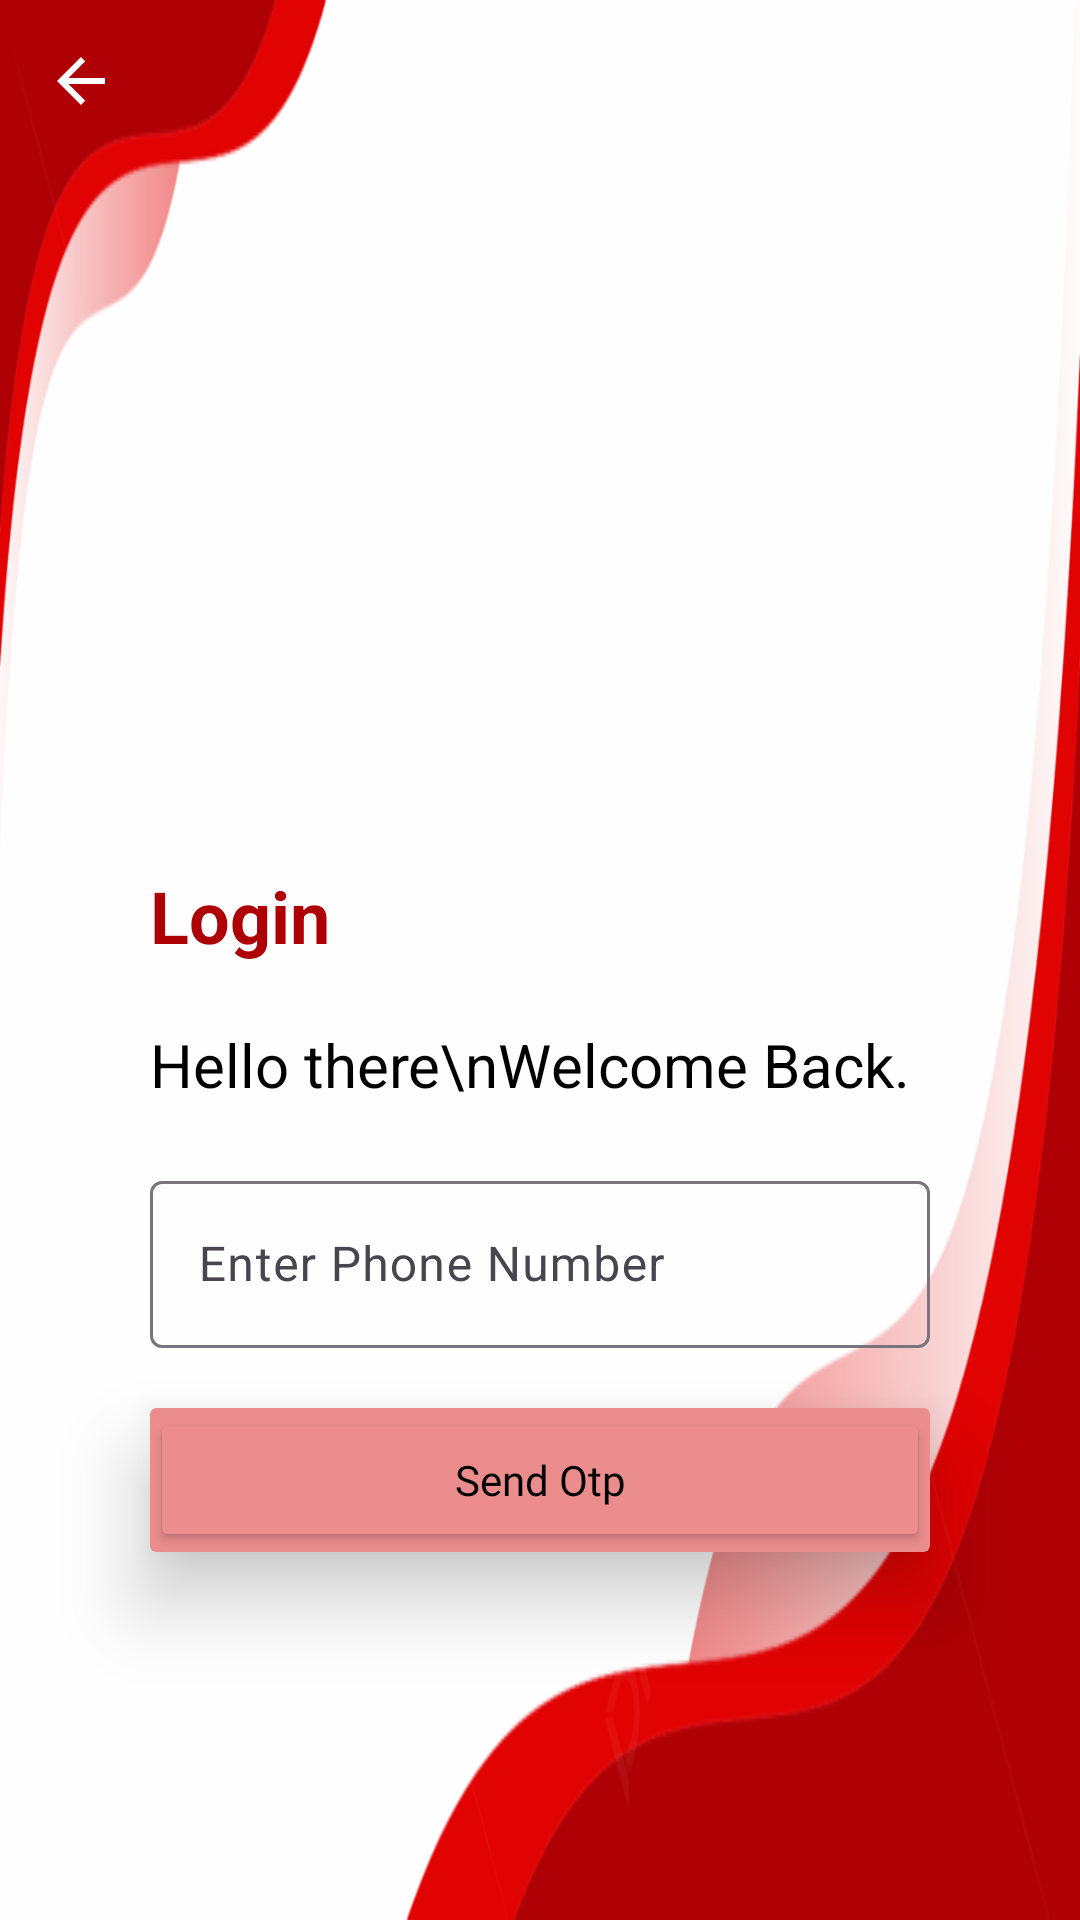

Where to tap for icons on this 1080w x 1920h app screen, as [x,y]:
arrow back: [81,81]
